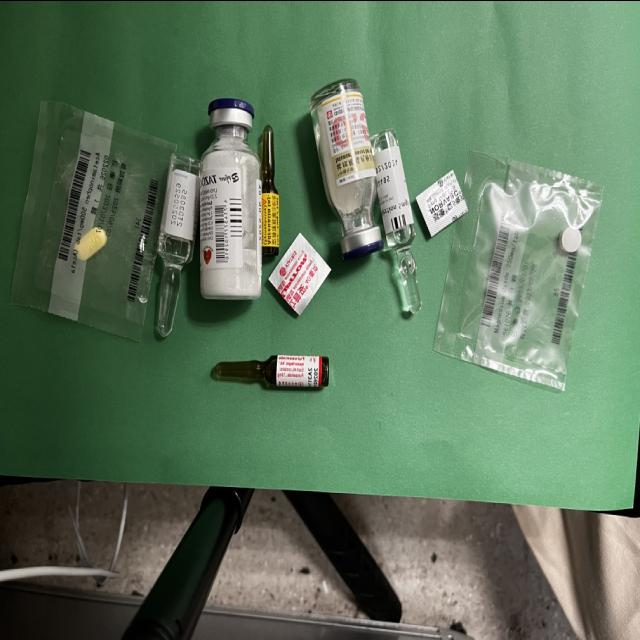Ampoules: (370, 129, 422, 314), (156, 153, 200, 339), (212, 355, 329, 387), (261, 125, 280, 258)
Vials: (310, 79, 382, 259), (199, 99, 262, 298)
